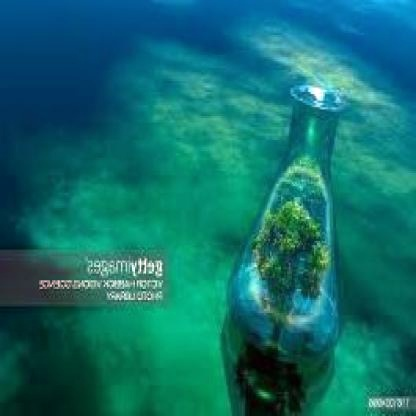gbottle: (232, 86, 341, 364)
